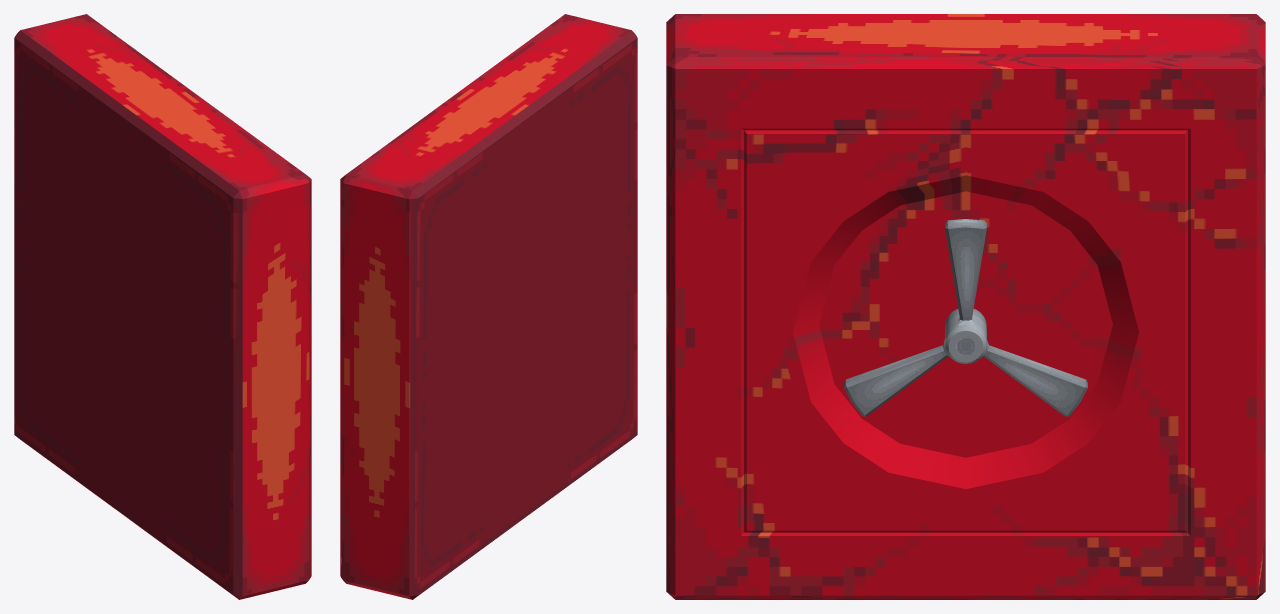
The model's file is Freak_Safe_Door.glb.
The picture shows the model from 3 angles, left to right: view 1: azimuth 30°, elevation 25°; view 2: azimuth 150°, elevation 25°; view 3: azimuth 270°, elevation 25°; orthographic projection. The views are drawn at different scales.
Visible parts, largest first — view 1: Cube.005; view 2: Cube.005; view 3: Cube.005, Cylinder.008.
Part boxes in pixels (left/top/right/bottom): Cube.005: left=14, top=14, right=311, bottom=599; Cube.005: left=340, top=14, right=637, bottom=599; Cube.005: left=666, top=14, right=1265, bottom=599; Cylinder.008: left=844, top=219, right=1087, bottom=416.
Bounding box in the file's own units: 0.513 × 2 × 2.
3 materials, 3 textured.
